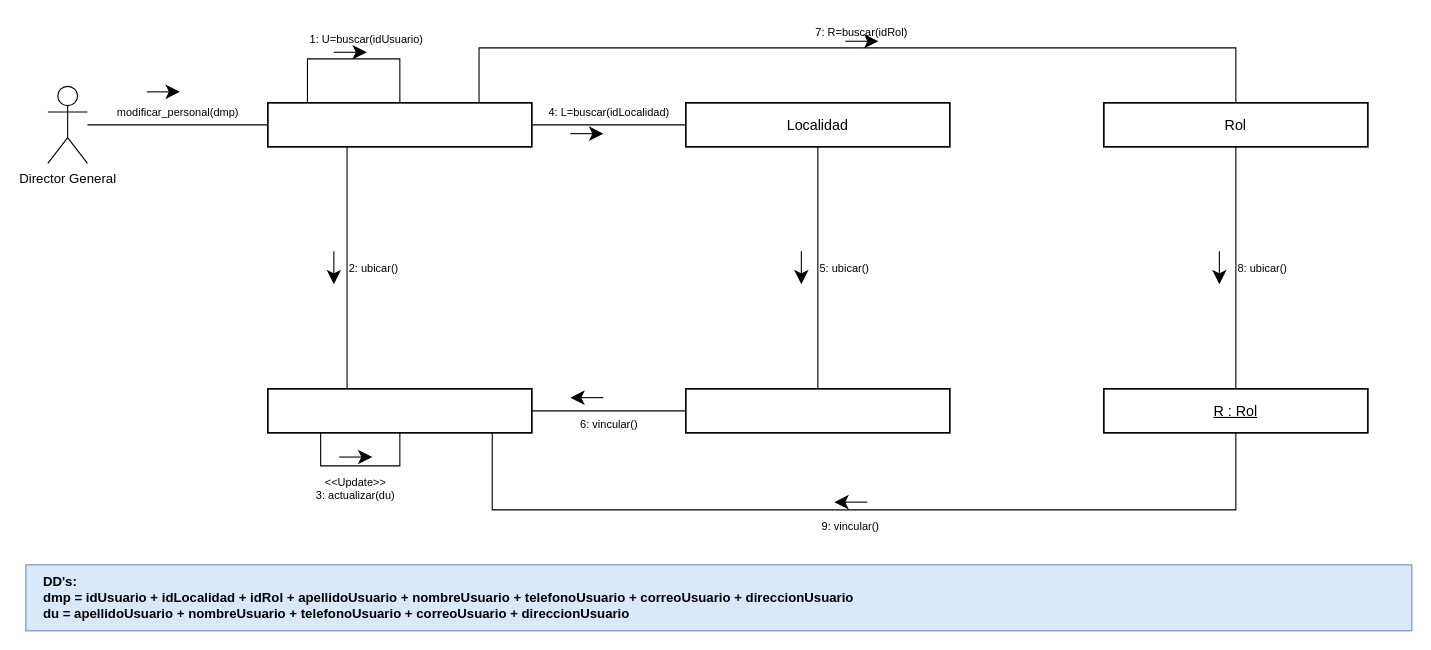
Some shapes in this 1431 by 650 pixel diagram are drawn without their labels. The box of each missing label's shape, as (x1, y1, x2, y2) in pixels:
L : Localidad: (685, 388, 950, 433)
U : Usuario: (267, 388, 532, 433)
Usuario: (267, 102, 532, 147)
